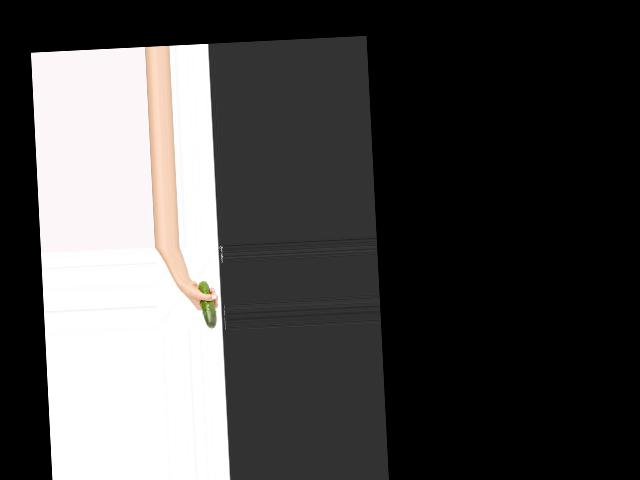cucumber: (198, 281, 217, 329)
